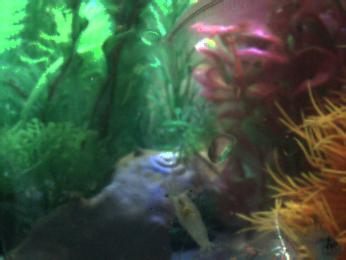X-ray fish: (293, 224, 341, 260)
glassfish: (150, 1, 265, 58)
siberian prawn: (162, 182, 218, 259)
